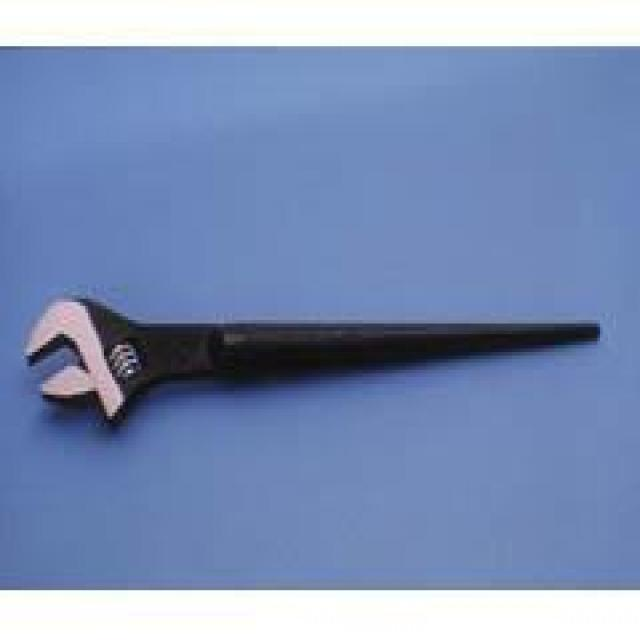wrench: (18, 285, 608, 439)
